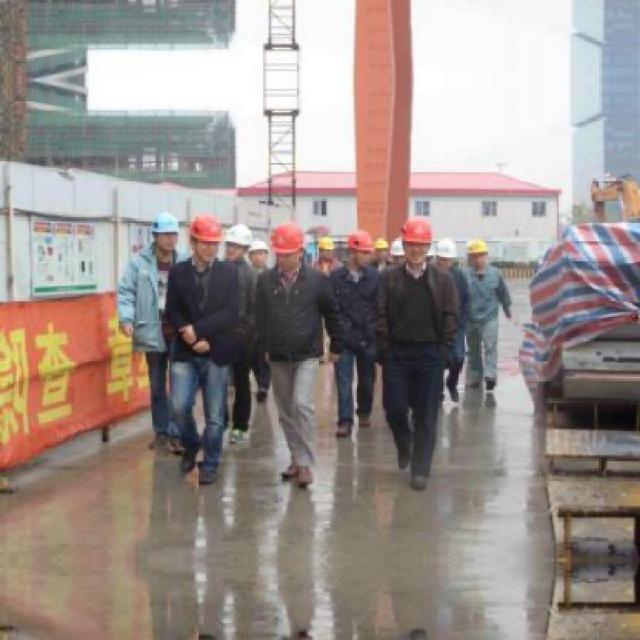helmet: (268, 218, 306, 272), (398, 218, 434, 268), (188, 215, 225, 263), (150, 208, 182, 258), (434, 235, 461, 277), (345, 228, 372, 269), (226, 223, 251, 263), (466, 235, 489, 272), (315, 231, 337, 266), (249, 237, 271, 272), (372, 237, 390, 266)
